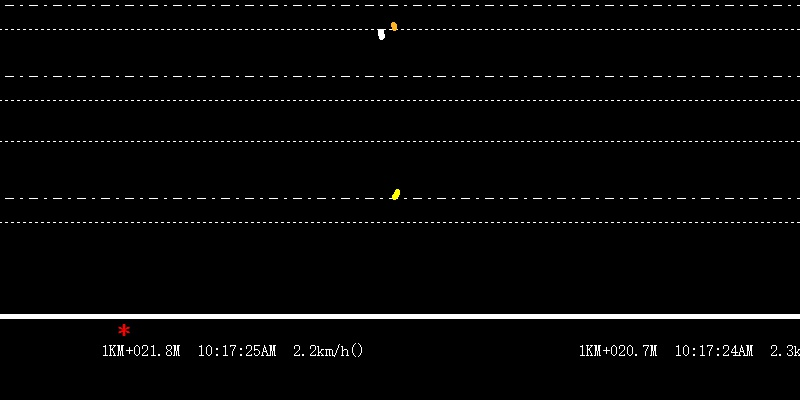face_1: (387, 19, 399, 33), (376, 25, 386, 41)
star: (114, 322, 134, 337)
